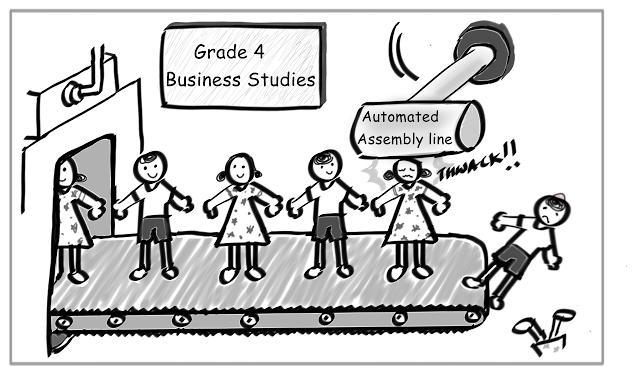person: (462, 190, 576, 310), (201, 151, 285, 283), (111, 151, 197, 278), (284, 149, 368, 278), (369, 159, 446, 282), (52, 151, 104, 284)
